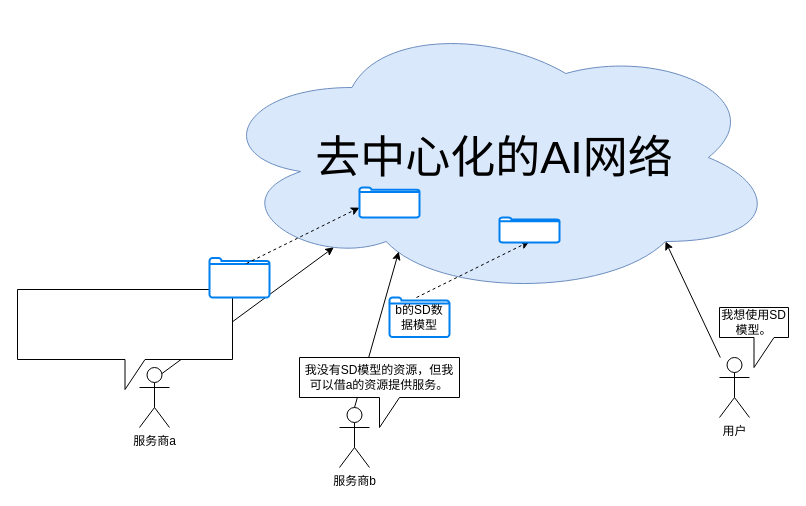
The diagram is 806 pixels wide and 506 high, and some of its shapes have lost their labels. The shapes that lost their labels are listed below. From the top down, each one's centre as x and y in pixels, then its label:
At point (389, 202): "编码为001".
At point (529, 229): "编码为002".
At point (239, 277): "a的SD模型数据".
At point (124, 339): "我有SD模型的资源！ b想借我的资源提供服务，但我需要解码他的SD模型再编码成我的SD模型才能帮他证明他有资源，代价太高了，在此过程中我无法获利。".
